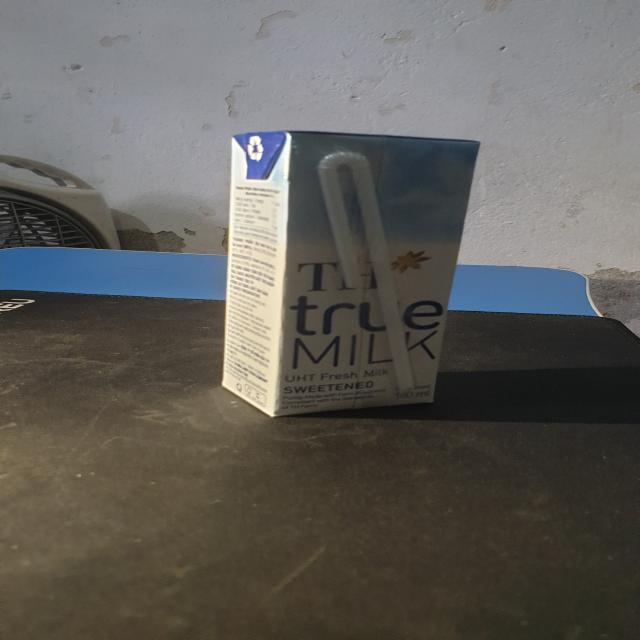TH: (221, 129, 485, 421)
